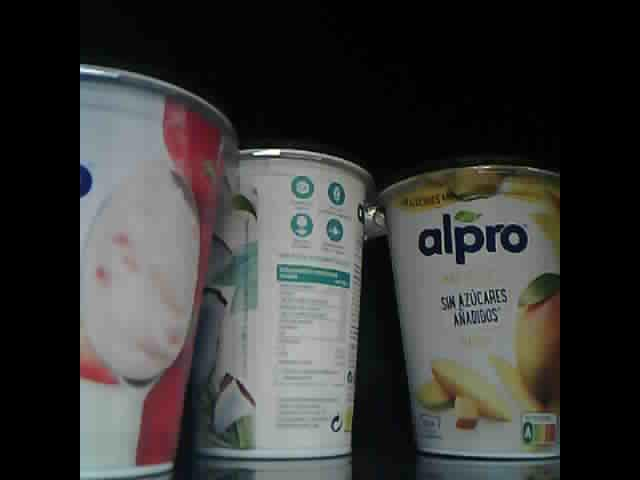alpro: (80, 52, 238, 480), (186, 136, 375, 463), (376, 153, 560, 463)
